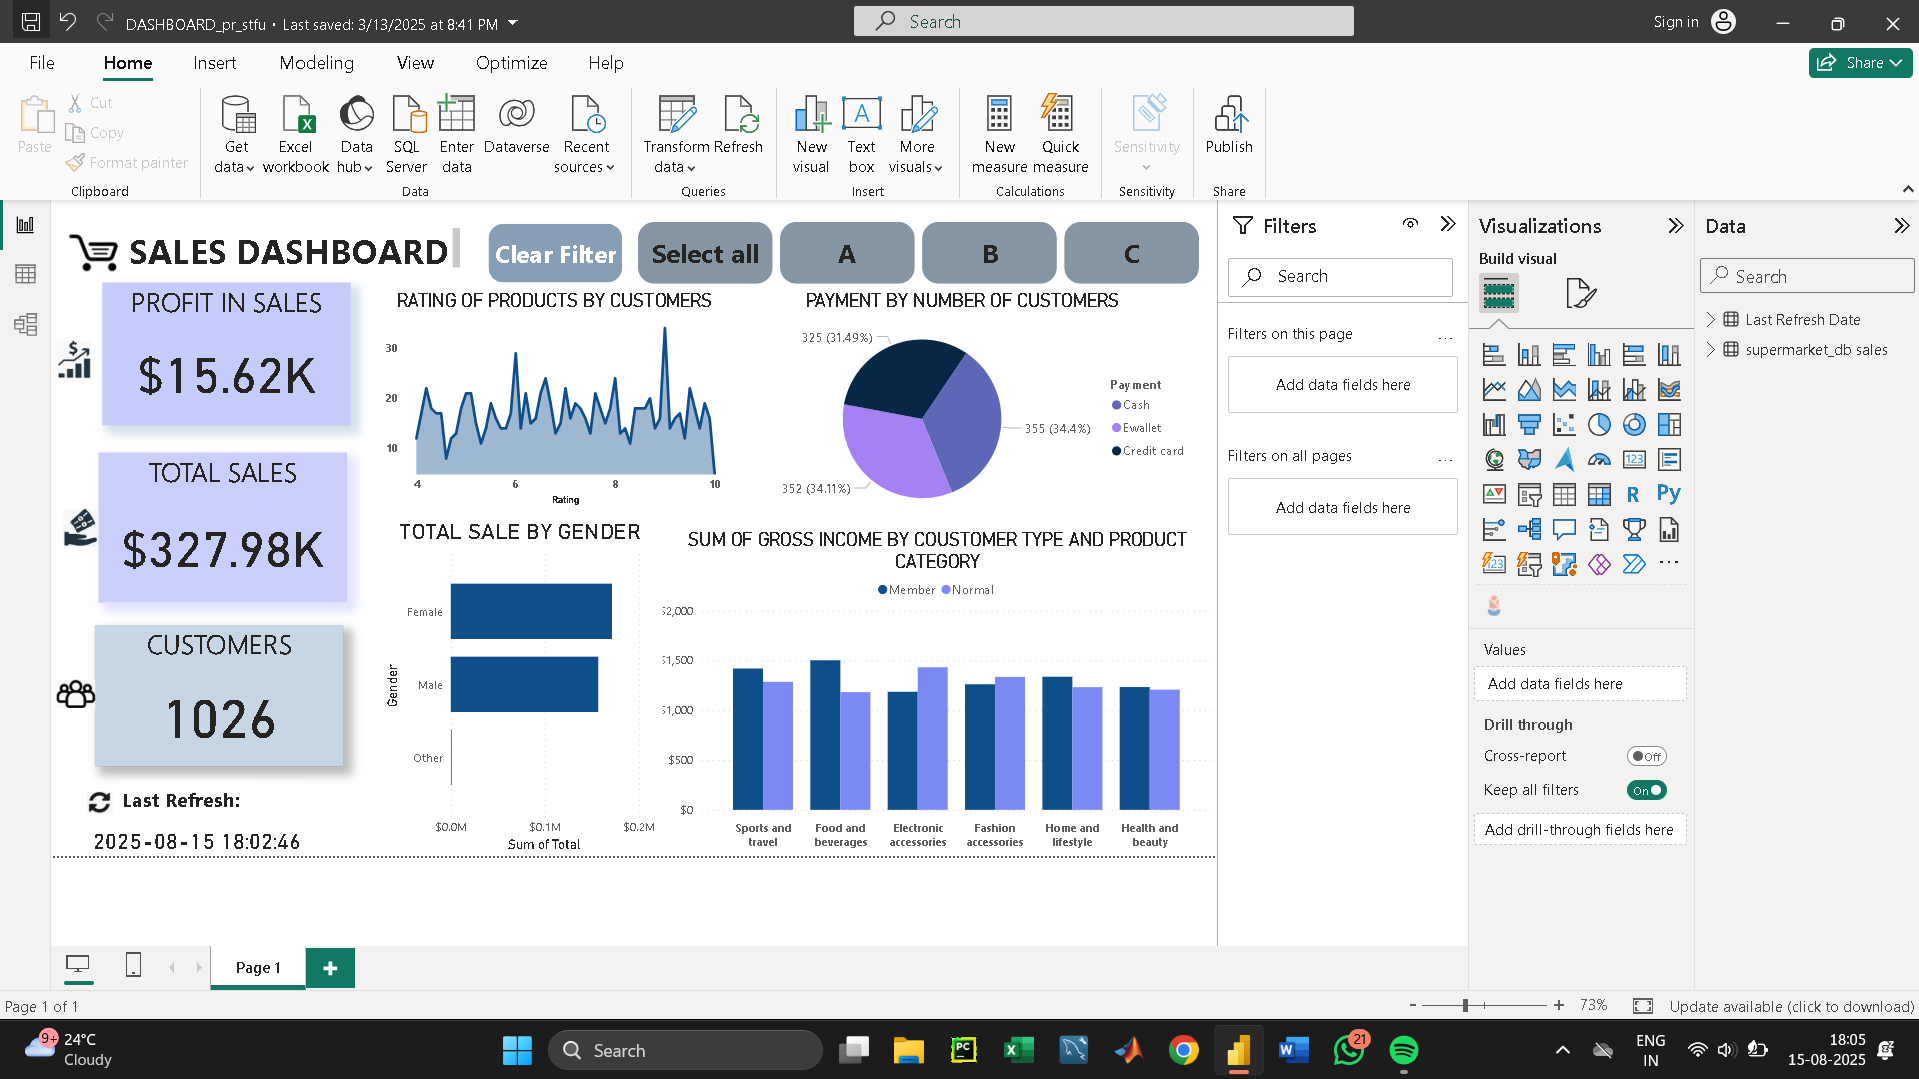

This screenshot's page, from the dashboard's own definition file:
{"tool":"powerbi","page":{"name":"Page 1","canvas":[1280,720],"ordinal":0},"visuals":[{"type":"card","title":"PROFIT IN SALES","fields":{"Values":["Sum(supermarket_db sales.gross income)"]},"box":[56.3,90.6,273.1,156.4],"z":0},{"type":"card","title":"CUSTOMERS","fields":{"Values":["Count(supermarket_db sales.Invoice ID)"]},"box":[48,466.6,273.1,155.1],"z":1000},{"type":"card","title":"TOTAL SALES","fields":{"Values":["Sum(supermarket_db sales.Total)"]},"box":[52.1,277.2,273.1,164.7],"z":2000},{"type":"advancedSlicerVisual","title":"BRANCH","fields":{"Values":["supermarket_db sales.Branch"]},"box":[639.5,19.2,629.8,78.2],"z":3000},{"type":"clusteredBarChart","title":"TOTAL SALE BY GENDER","fields":{"Category":["supermarket_db sales.Gender"],"Y":["Sum(supermarket_db sales.Total)"]},"box":[362.3,349.9,304.6,370.5],"z":4000},{"type":"lineClusteredColumnComboChart","title":"SUM OF GROSS INCOME BY COUSTOMER TYPE AND PRODUCT CATEGORY ","fields":{"Category":["supermarket_db sales.Product line"],"Y":["Sum(supermarket_db sales.gross income)"],"Series":["supermarket_db sales.Customer type"]},"box":[666.9,359.5,613.4,360.9],"z":5000},{"type":"pieChart","title":"PAYMENT BY NUMBER OF CUSTOMERS","fields":{"Category":["supermarket_db sales.Payment"],"Y":["Count(supermarket_db sales.S.NO)"]},"box":[743.7,97.4,513.2,262.1],"z":6000},{"type":"areaChart","title":"RATING OF PRODUCTS BY CUSTOMERS","fields":{"Category":["supermarket_db sales.Rating"],"Y":["Count(supermarket_db sales.S.NO)"]},"box":[362.3,97.4,381.5,242.9],"z":7000},{"type":"textbox","box":[81,26.1,373.2,56.3],"z":8000},{"type":"image","box":[13.7,28.8,67.2,61.7],"z":9000},{"type":"image","box":[34.3,644.9,38.4,34.3],"z":10000},{"type":"image","box":[8.2,323.8,48,71.4],"z":11000},{"type":"image","box":[1.4,520.1,52.1,43.9],"z":12000},{"type":"image","box":[1.4,148.2,48,54.9],"z":13000},{"type":"actionButton","box":[489.9,30.2,129,54.9],"z":14000},{"type":"shape","box":[480.3,26.1,146.8,64.5],"z":15000},{"type":"textbox","box":[72.7,649.1,155.1,37],"z":16000},{"type":"card","fields":{"Values":["Min(Last Refresh Date.Refresh DateTime)"]},"box":[34.3,686.1,252.5,34.3],"z":17000},{"type":"FlowVisual_C29F1DCC_81F5_4973_94AD_0517D44CC06A","fields":{"table":["Last Refresh Date.Refresh DateTime.Variation.Date Hierarchy.Year","Last Refresh Date.Refresh DateTime.Variation.Date Hierarchy.Quarter","Last Refresh Date.Refresh DateTime.Variation.Date Hierarchy.Month","Last Refresh Date.Refresh DateTime.Variation.Date Hierarchy.Day"]},"box":[72.7,638.1,209.9,48],"z":18000},{"type":"textbox","box":[72.7,638.1,152.3,42.5],"z":19000}]}

Visuals, with their boxes on the page's 1280x720 design canvas (x1, y1, x2, y2). These are canvas units, not pixel positions in the 1919x1079 screenshot, which may show the page scaled, cropped or inside an application window:
"PROFIT IN SALES" card: 56:91:329:247
"CUSTOMERS" card: 48:467:321:622
"TOTAL SALES" card: 52:277:325:442
"BRANCH" advancedSlicerVisual: 640:19:1269:97
"TOTAL SALE BY GENDER" clusteredBarChart: 362:350:667:720
"SUM OF GROSS INCOME BY COUSTOMER TYPE AND PRODUCT CATEGORY " lineClusteredColumnComboChart: 667:360:1280:720
"PAYMENT BY NUMBER OF CUSTOMERS" pieChart: 744:97:1257:360
"RATING OF PRODUCTS BY CUSTOMERS" areaChart: 362:97:744:340
textbox: 81:26:454:82
image: 14:29:81:90
image: 34:645:73:679
image: 8:324:56:395
image: 1:520:54:564
image: 1:148:49:203
actionButton: 490:30:619:85
shape: 480:26:627:91
textbox: 73:649:228:686
card - Min(Last Refresh Date.Refresh DateTime): 34:686:287:720
FlowVisual_C29F1DCC_81F5_4973_94AD_0517D44CC06A - Last Refresh Date.Refresh DateTime.Variation.Date Hierarchy.Year x Last Refresh Date.Refresh DateTime.Variation.Date Hierarchy.Quarter: 73:638:283:686
textbox: 73:638:225:681
